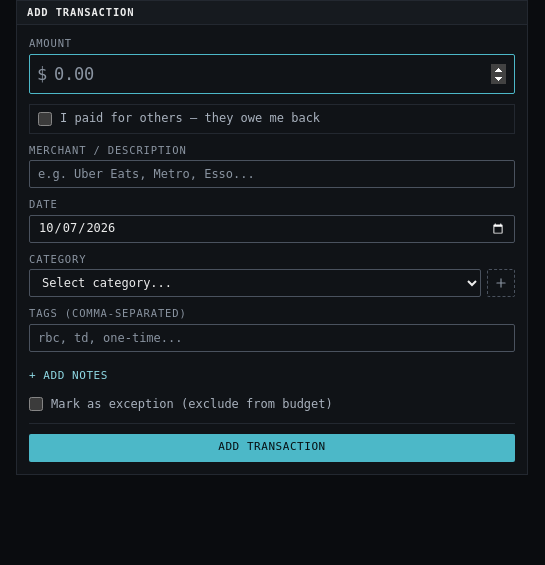
validation › rejects a zero amount
Type "0" into the number field labelled "Amount".
click(272, 74); type("0")  # box left=29, top=54, right=515, bottom=94
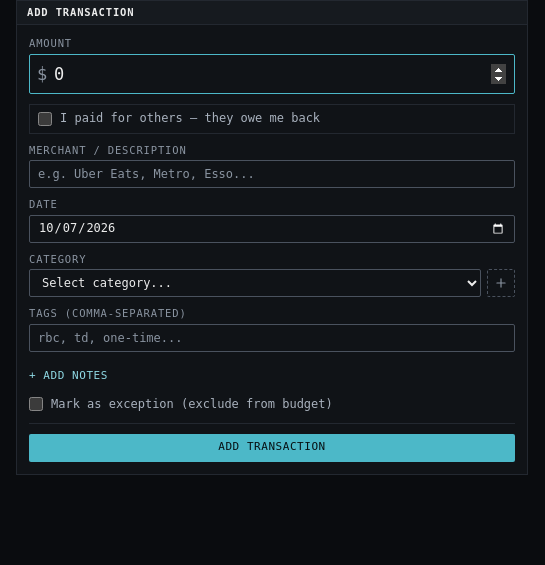
Type "Zyxo Mart" into the dropdown labelled "Merchant / Description".
click(272, 174); type("Zyxo Mart")  # box left=29, top=160, right=515, bottom=188
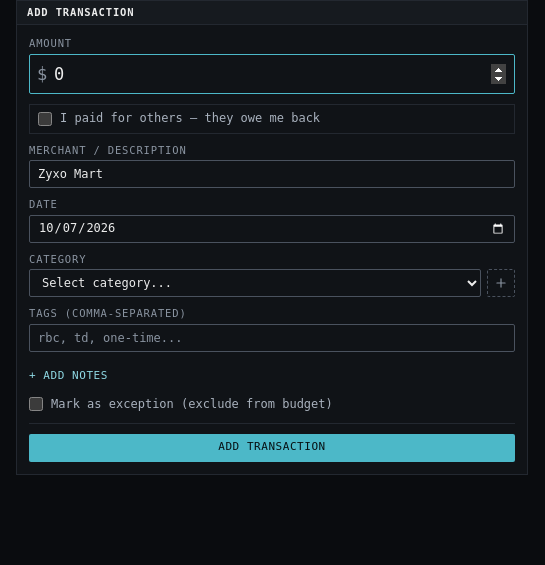
Select "Groceries" in the dropdown labelled "Category" at [255, 283], box left=29, top=269, right=481, bottom=297
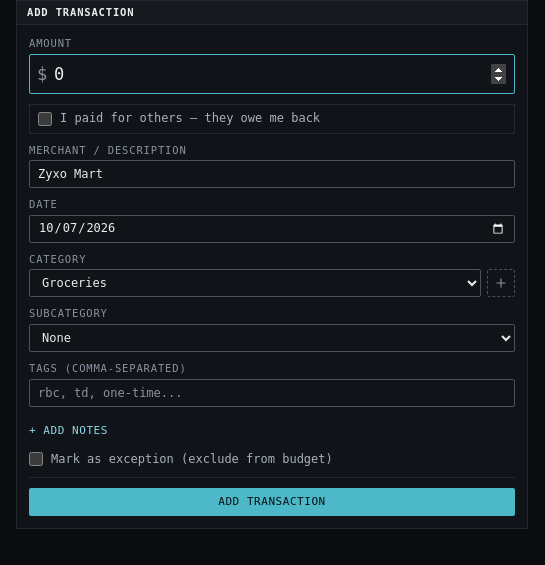
Click the button "Add Transaction".
click(272, 502)  # box left=29, top=488, right=515, bottom=516
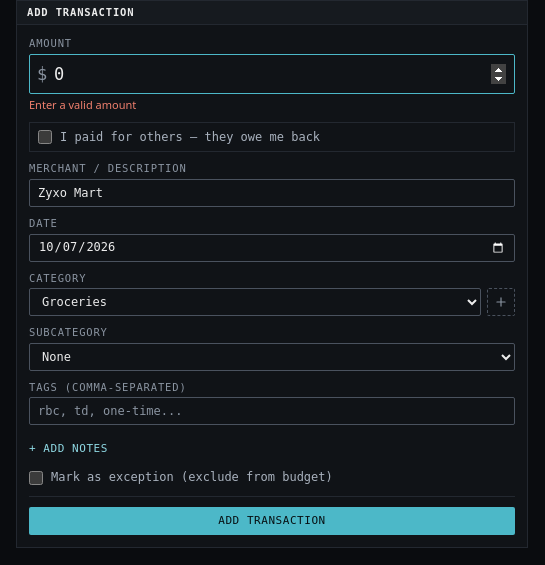
Expected: the text "Enter a valid amount" is shown, left=29, top=97, right=136, bottom=112
